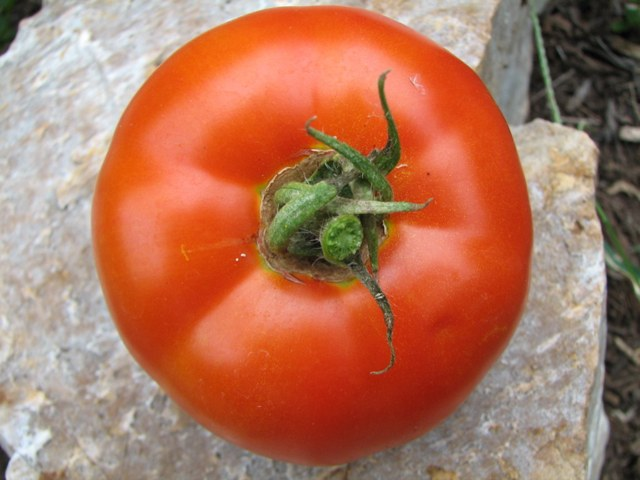tomato: (91, 5, 534, 466)
